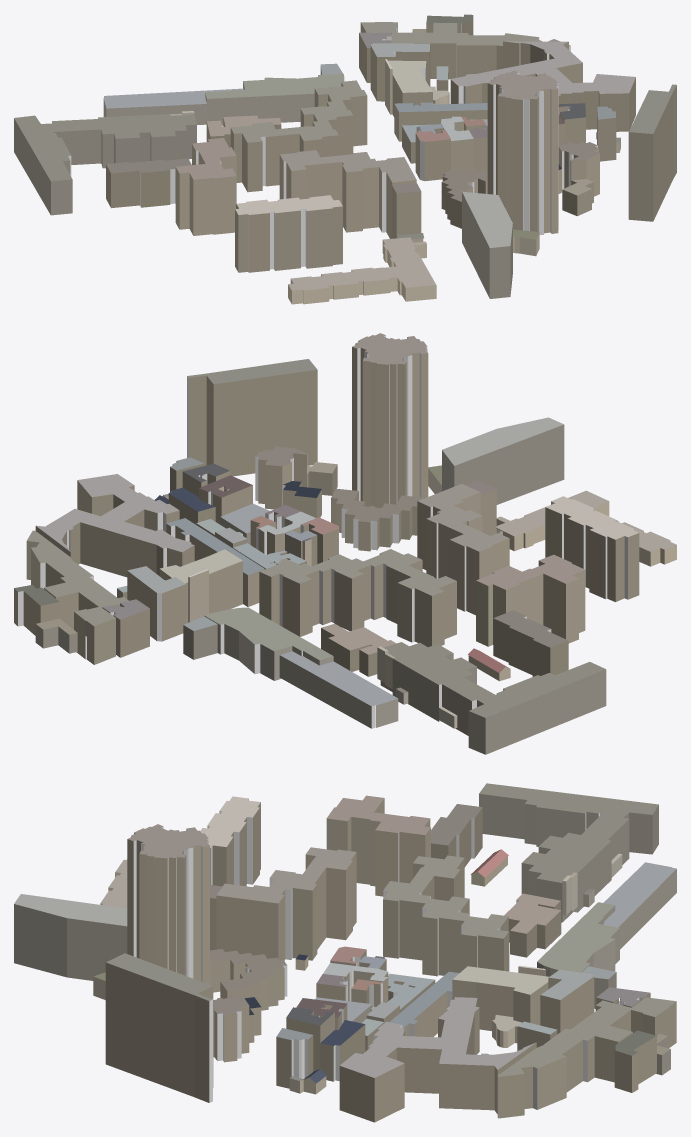
3 views of the same model, one above another, from view 1: azimuth 30°, elevation 25°; view 2: azimuth 150°, elevation 25°; view 3: azimuth 270°, elevation 25° (orthographic). The views are drawn at different scales.
Parts seen in each view (by area): view 1: tuile; view 2: tuile; view 3: tuile.
Boxes of the visible parts, <box> form: tuile: <box>14,14,676,304</box>; tuile: <box>14,333,676,754</box>; tuile: <box>14,783,676,1122</box>.
Bounding box in the file's own units: 310 × 82 × 284.
